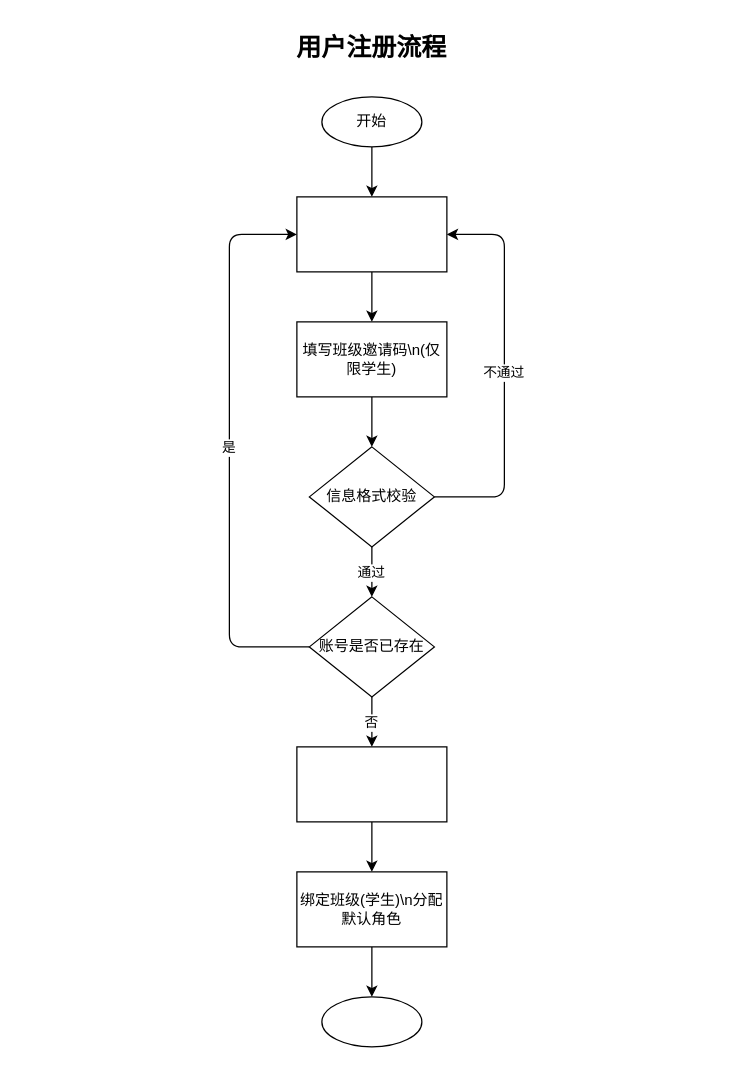
Some shapes in this 743 by 1069 pixel diagram are drawn without their labels. The centre of each missing label's shape, as x and y in pixels:
加密密码并存入数据库: the point at 371,784
填写注册信息\n(账号/密码/昵称): the point at 371,234
注册成功: the point at 371,1021
